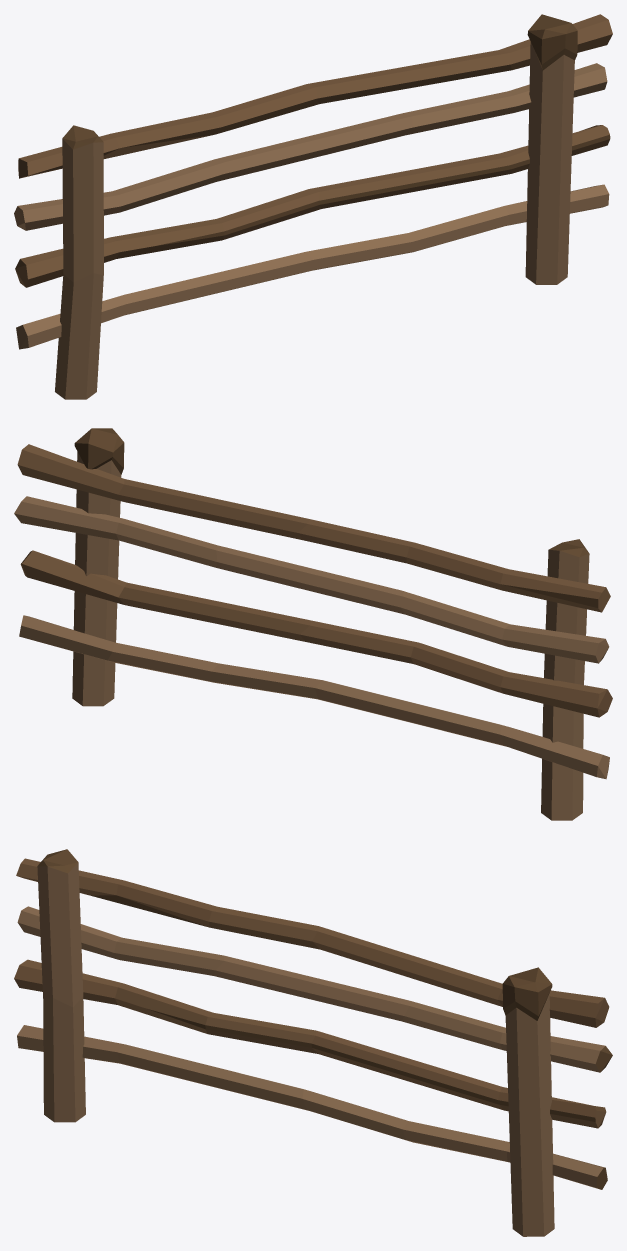
Rendered from EM_wood_fence3b.fbx.
3 views of the same model, one above another, from view 1: azimuth 30°, elevation 25°; view 2: azimuth 150°, elevation 25°; view 3: azimuth 330°, elevation 25° (orthographic).
Parts seen in each view (by area): view 1: EM_wood_fence3b_LOD0; view 2: EM_wood_fence3b_LOD0; view 3: EM_wood_fence3b_LOD0.
Boxes of the visible parts, x1,y1,x2,y2 form: EM_wood_fence3b_LOD0: (14,14,612,399); EM_wood_fence3b_LOD0: (14,428,612,820); EM_wood_fence3b_LOD0: (14,849,612,1236).
Size of what is drawn, in the model's own units: 2.67 by 1.15 by 0.2705.
